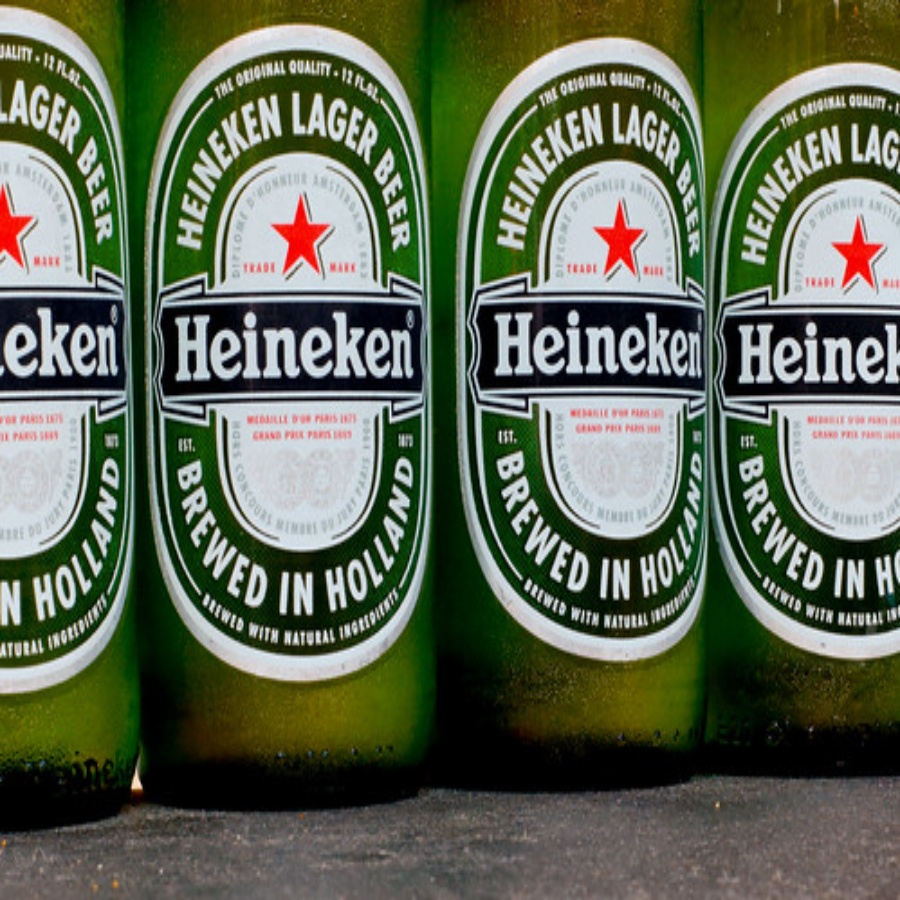beer: (138, 1, 433, 785), (438, 1, 703, 798), (708, 1, 900, 783)
